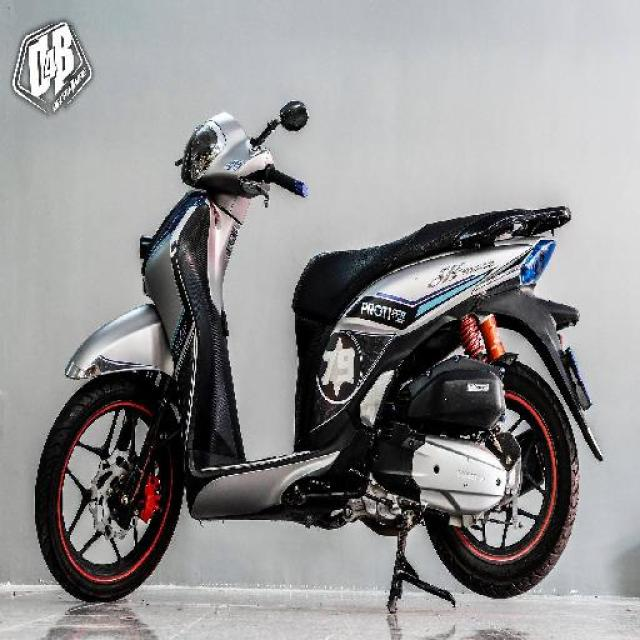All: (29, 108, 624, 606)
Head: (175, 108, 312, 208)
Tail: (495, 193, 579, 284)
